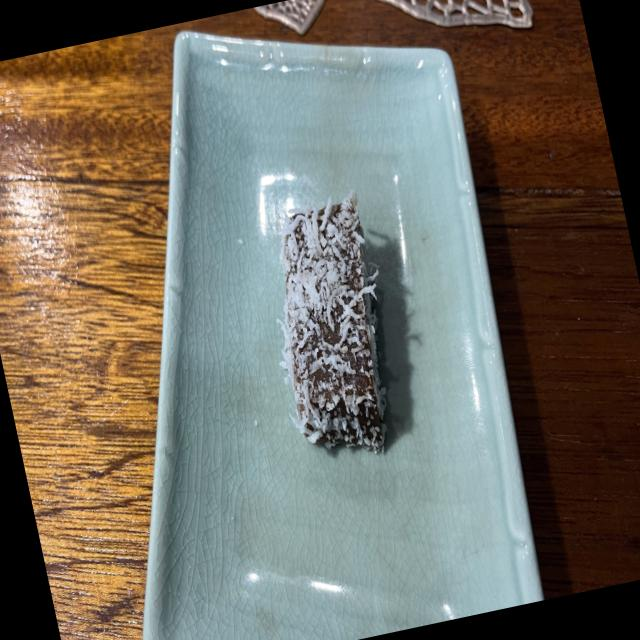kaswi: (280, 192, 385, 451)
